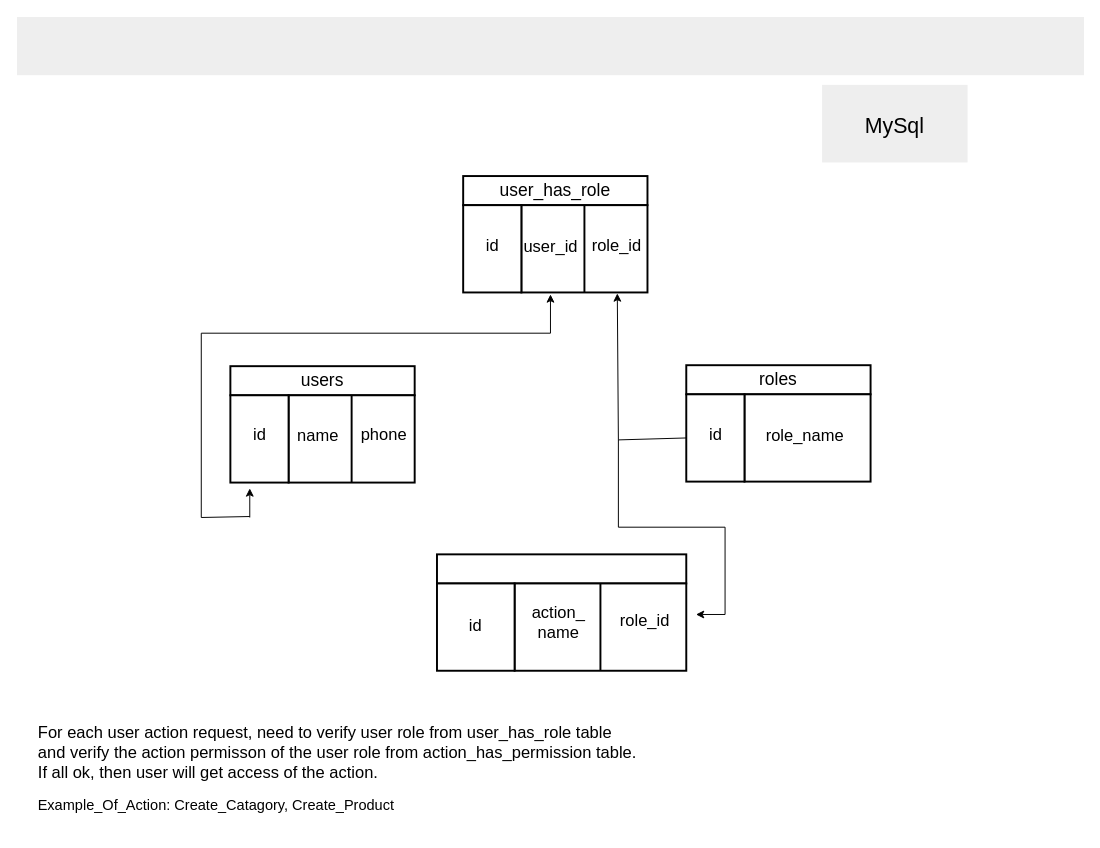
The diagram is 1100 pixels wide and 848 high, and some of its shapes have lost their labels. The shapes that lost their labels are listed below. From the top down, each one's centre as x and y in pixels, then its label:
(549,45): Role Based Action Management DB Model
(561,568): action_has_permission
